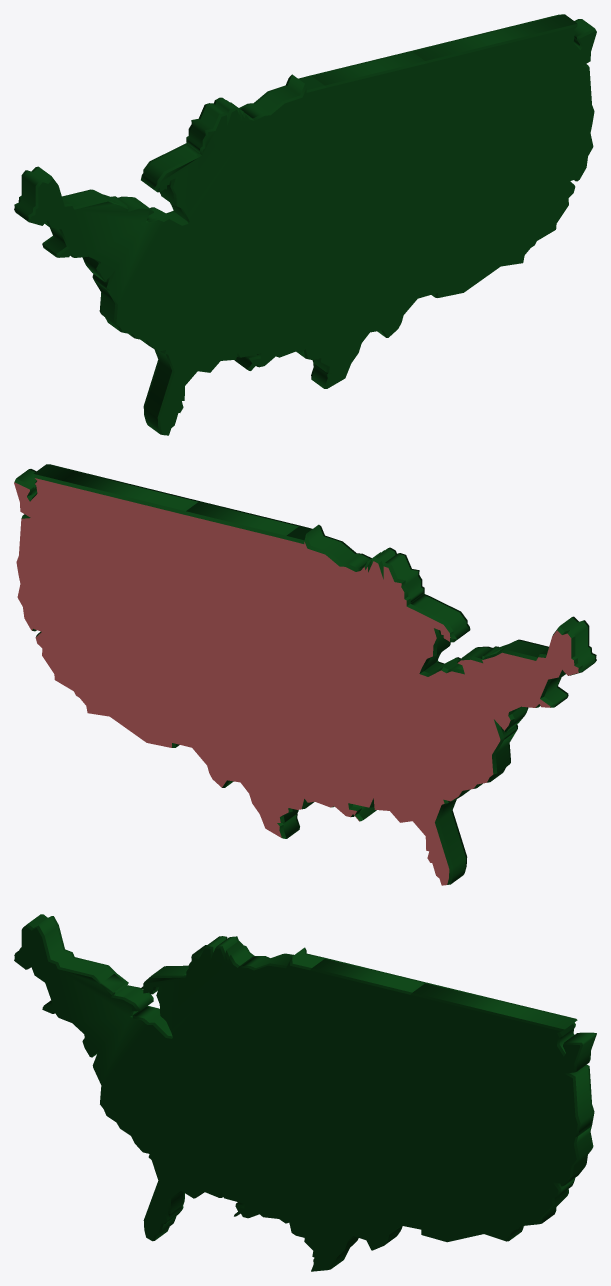
File: United States of America.fbx
3 renders of one model, top to bottom at view 1: azimuth 30°, elevation 25°; view 2: azimuth 150°, elevation 25°; view 3: azimuth 330°, elevation 25°, orthographic.
Visible parts, largest first — view 1: United States of America; view 2: United States of America; view 3: United States of America.
Part boxes in pixels (<box>): United States of America: <box>14,14,596,435</box>; United States of America: <box>14,464,596,885</box>; United States of America: <box>14,914,596,1271</box>.
Size of the model in its own units: 36.15 by 19.33 by 1.91.
